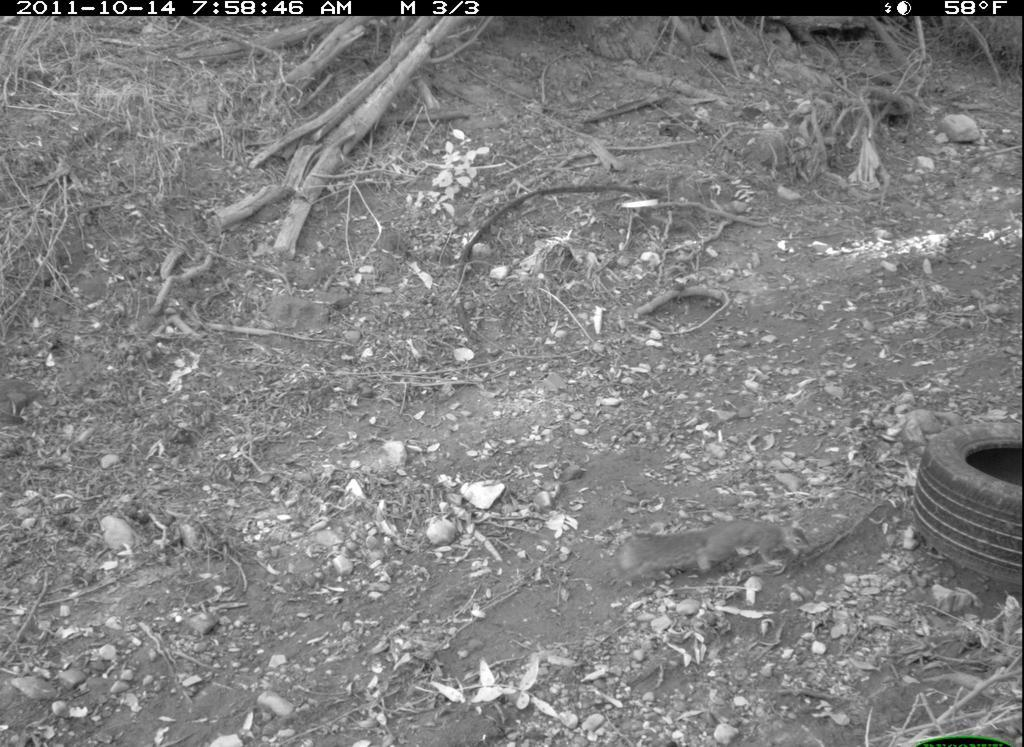squirrel: (616, 519, 815, 585)
